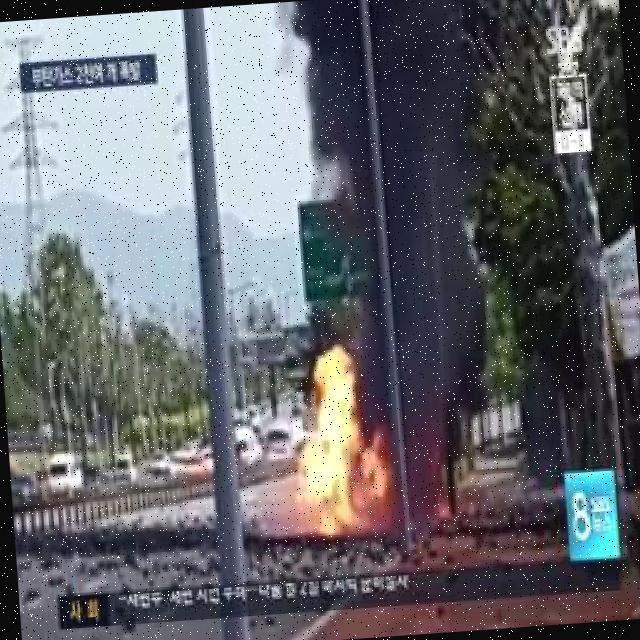Fire: (291, 353, 368, 540)
